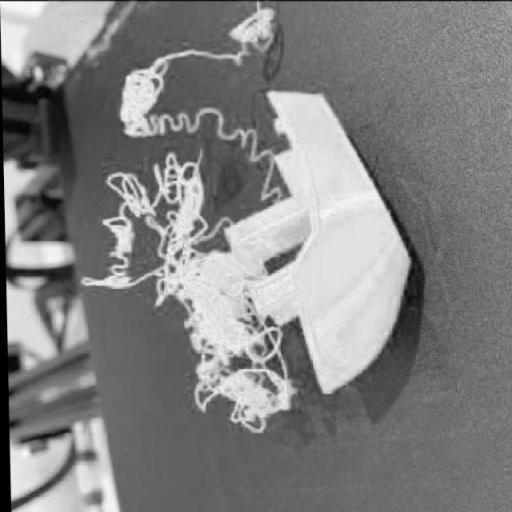spaghetti_and_stringing: (72, 2, 296, 432)
